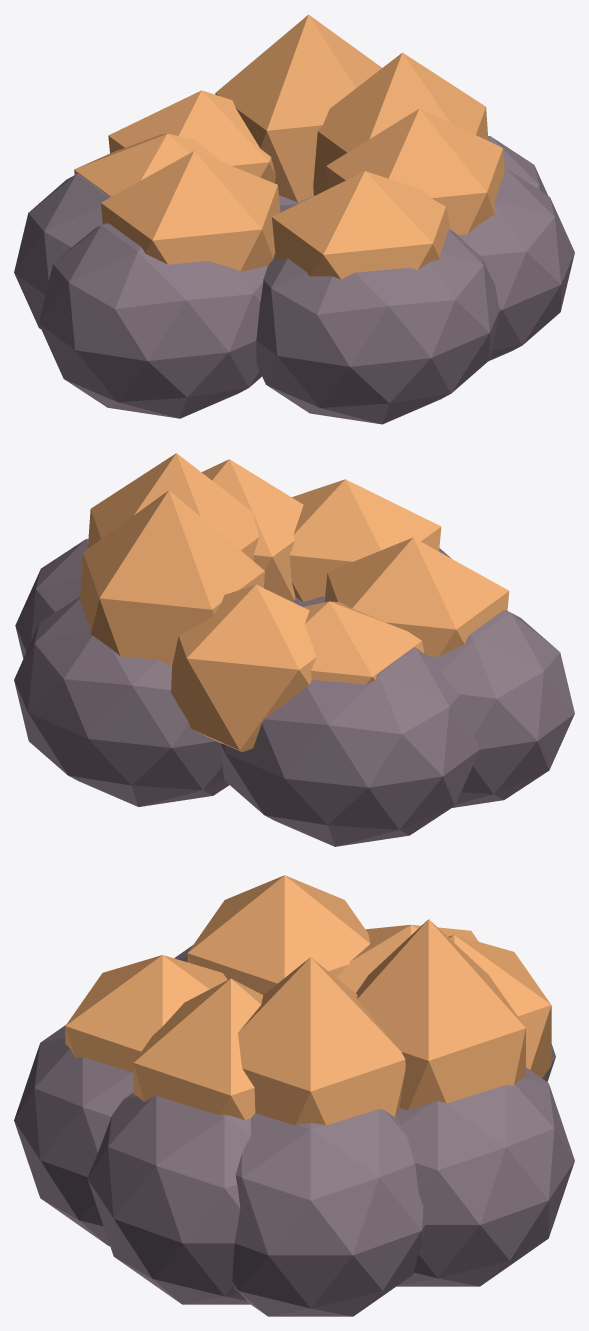
Rendered from ore_copper.glb.
3 views of the same model, one above another, from view 1: azimuth 30°, elevation 25°; view 2: azimuth 150°, elevation 25°; view 3: azimuth 270°, elevation 25° (orthographic). The views are drawn at different scales.
Visible parts, largest first — view 1: Basalt cluster, Ore deposit; view 2: Basalt cluster, Ore deposit; view 3: Basalt cluster, Ore deposit.
Part boxes in pixels (<box>): Basalt cluster: <box>14,136,574,424</box>; Ore deposit: <box>74,14,504,279</box>; Basalt cluster: <box>14,538,574,846</box>; Ore deposit: <box>80,453,509,751</box>; Basalt cluster: <box>14,945,574,1316</box>; Ore deposit: <box>65,875,551,1125</box>.
Bounding box in the file's own units: 2.92 × 1.67 × 2.45.
